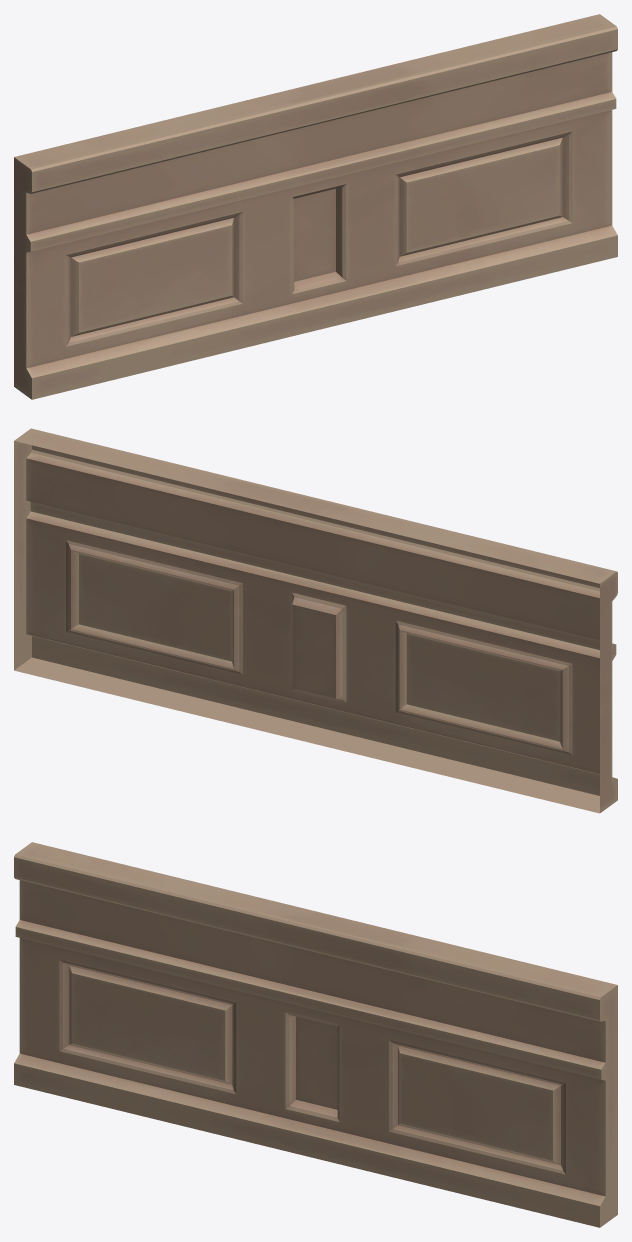
File: WallPanel.fbx
The picture shows the model from 3 angles, top to bottom: view 1: azimuth 30°, elevation 25°; view 2: azimuth 150°, elevation 25°; view 3: azimuth 330°, elevation 25°; orthographic projection.
Visible parts, largest first — view 1: WallPanel; view 2: WallPanel; view 3: WallPanel.
Boxes of the visible parts, left/top/right/bottom form: WallPanel: left=14, top=14, right=617, bottom=399; WallPanel: left=14, top=428, right=617, bottom=813; WallPanel: left=14, top=842, right=617, bottom=1227.
Size of the model in its own units: 1515 by 567 by 80.93.
